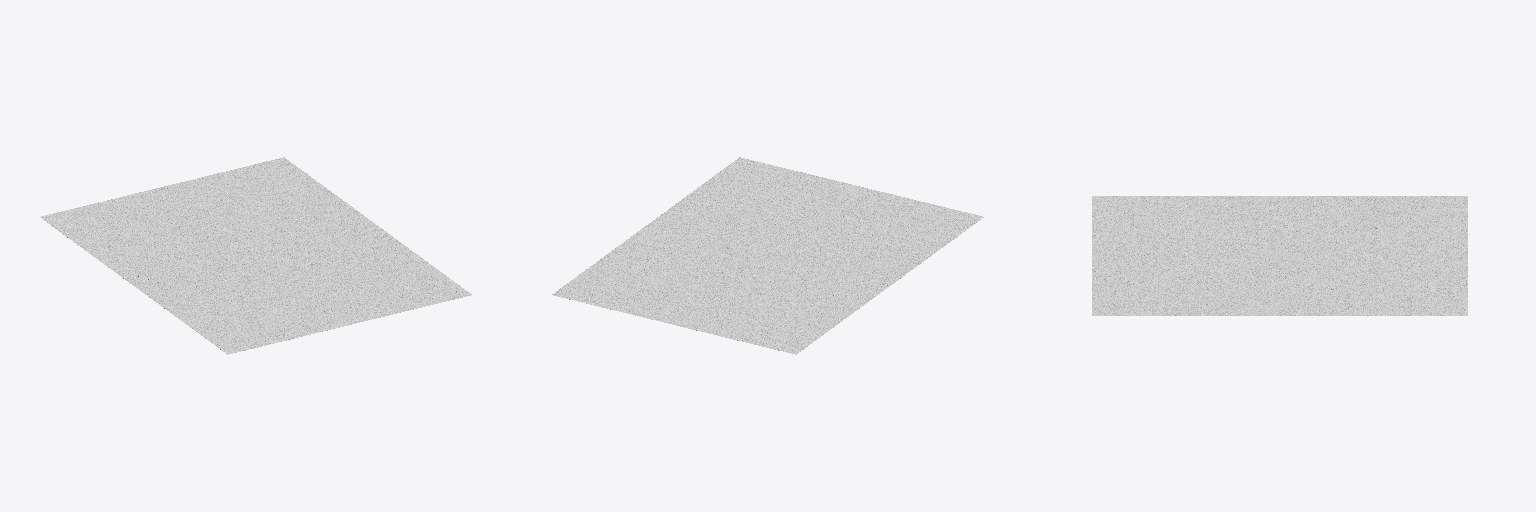
3 renders of one model, left to right at view 1: azimuth 30°, elevation 25°; view 2: azimuth 150°, elevation 25°; view 3: azimuth 270°, elevation 25°, orthographic.
Visible parts, largest first — view 1: uploads_files_[number redacted]_Cupboard; view 2: uploads_files_[number redacted]_Cupboard; view 3: uploads_files_[number redacted]_Cupboard.
Part boxes in pixels (bbox=[...]): uploads_files_[number redacted]_Cupboard: bbox=[40, 157, 471, 354]; uploads_files_[number redacted]_Cupboard: bbox=[552, 157, 983, 354]; uploads_files_[number redacted]_Cupboard: bbox=[1092, 196, 1467, 315].
Size of the model in its own units: 133 by 0.015 by 177.
1 materials, 1 textured.